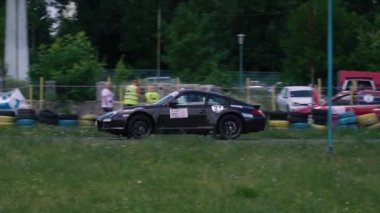Carro: (94, 86, 271, 143), (299, 88, 380, 127), (276, 83, 324, 121)
